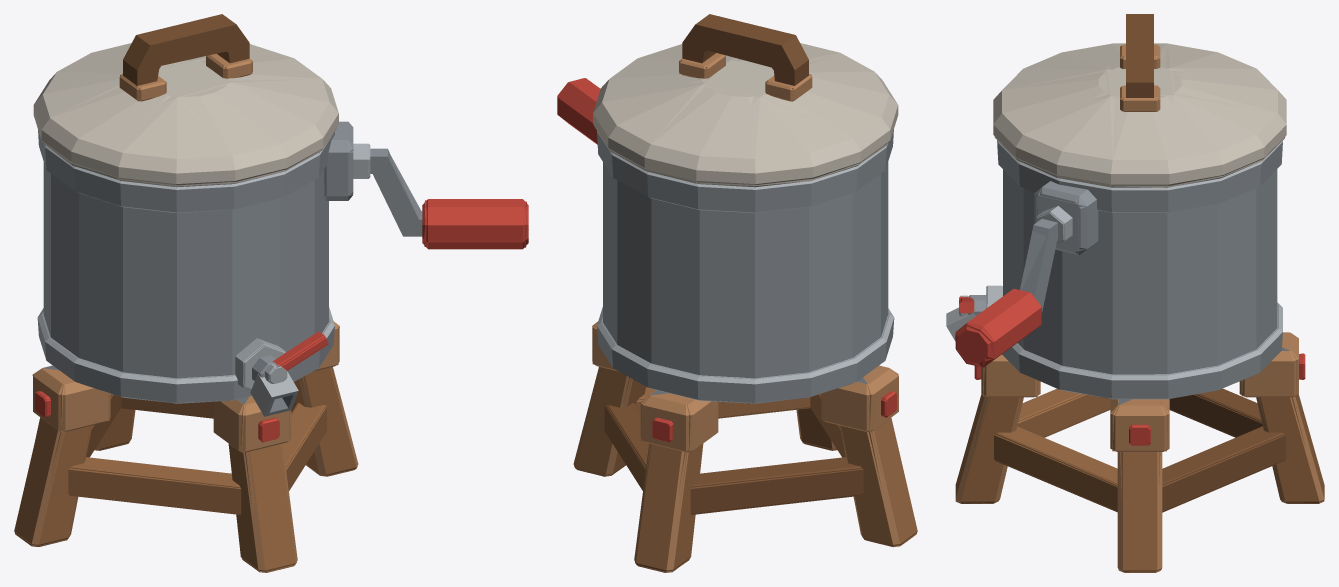
The model's file is FMS_Workshop_STA_12.fbx.
The picture shows the model from 3 angles, left to right: view 1: azimuth 30°, elevation 25°; view 2: azimuth 150°, elevation 25°; view 3: azimuth 270°, elevation 25°; orthographic projection. The views are drawn at different scales.
Parts seen in each view (by area): view 1: FMS_Workshop_STA_12_Body, FMS_Workshop_STA_12_Lid, FMS_Workshop_STA_12_Lid_Low1, FMS_Workshop_STA_12_Crank, FMS_Workshop_STA_12_Body_Low1, FMS_Workshop_STA_12_Crank_Low1; view 2: FMS_Workshop_STA_12_Body, FMS_Workshop_STA_12_Lid, FMS_Workshop_STA_12_Lid_Low1, FMS_Workshop_STA_12_Body_Low1, FMS_Workshop_STA_12_Crank; view 3: FMS_Workshop_STA_12_Body, FMS_Workshop_STA_12_Lid, FMS_Workshop_STA_12_Lid_Low1, FMS_Workshop_STA_12_Body_Low1, FMS_Workshop_STA_12_Crank, FMS_Workshop_STA_12_Crank_Low1.
Boxes of the visible parts, x1=… form: FMS_Workshop_STA_12_Body: x1=14, y1=121, x2=358, y2=572; FMS_Workshop_STA_12_Lid: x1=33, y1=14, x2=338, y2=187; FMS_Workshop_STA_12_Lid_Low1: x1=34, y1=14, x2=337, y2=186; FMS_Workshop_STA_12_Crank: x1=353, y1=143, x2=528, y2=249; FMS_Workshop_STA_12_Body_Low1: x1=15, y1=126, x2=357, y2=572; FMS_Workshop_STA_12_Crank_Low1: x1=369, y1=144, x2=527, y2=247; FMS_Workshop_STA_12_Body: x1=573, y1=130, x2=917, y2=572; FMS_Workshop_STA_12_Lid: x1=593, y1=14, x2=898, y2=187; FMS_Workshop_STA_12_Lid_Low1: x1=594, y1=14, x2=897, y2=185; FMS_Workshop_STA_12_Body_Low1: x1=574, y1=134, x2=916, y2=572; FMS_Workshop_STA_12_Crank: x1=557, y1=78, x2=600, y2=144; FMS_Workshop_STA_12_Body: x1=946, y1=140, x2=1324, y2=572; FMS_Workshop_STA_12_Lid: x1=993, y1=14, x2=1286, y2=187; FMS_Workshop_STA_12_Lid_Low1: x1=993, y1=14, x2=1286, y2=187; FMS_Workshop_STA_12_Body_Low1: x1=955, y1=143, x2=1324, y2=572; FMS_Workshop_STA_12_Crank: x1=955, y1=205, x2=1072, y2=367; FMS_Workshop_STA_12_Crank_Low1: x1=955, y1=212, x2=1064, y2=367.
Size of the model in its own units: 1.14 by 1.2 by 0.8926.
